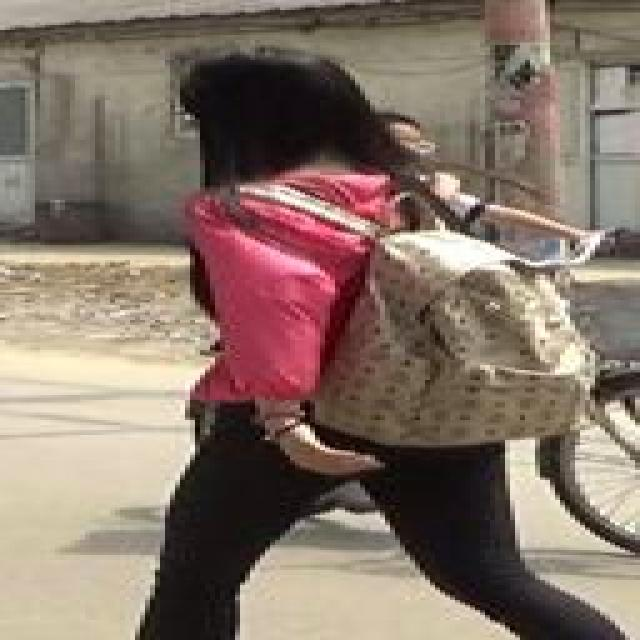adult: (145, 40, 555, 640)
